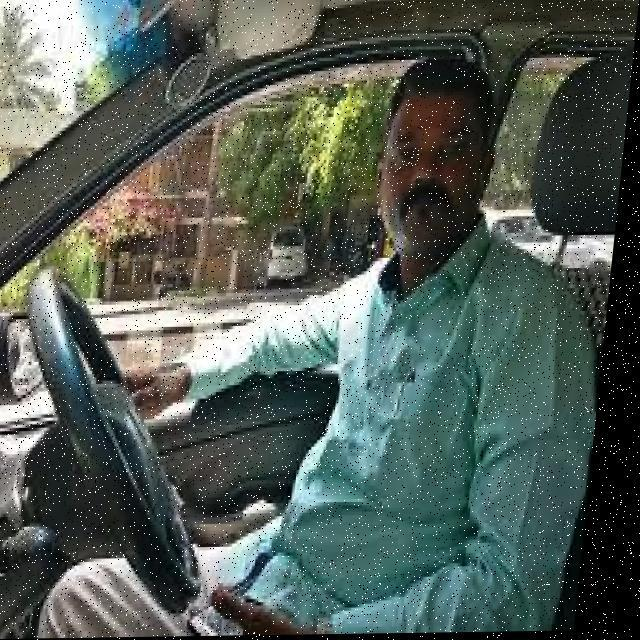noSeatbelt: (269, 204, 602, 636)
